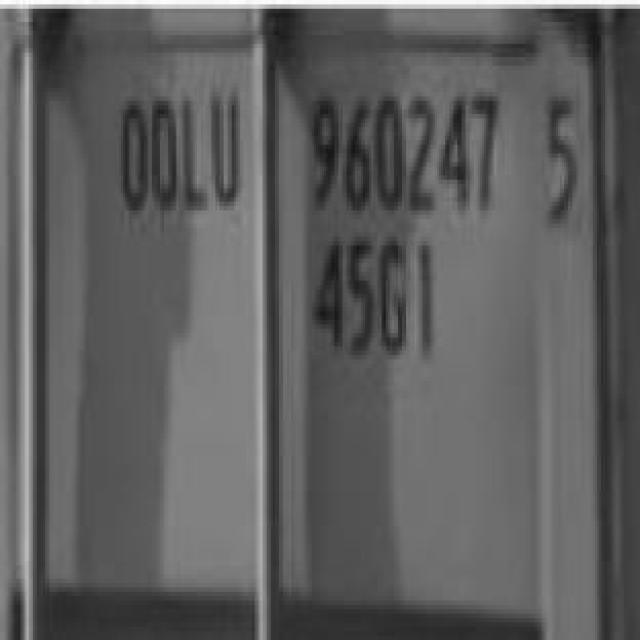dv: (539, 80, 581, 234)
owner: (116, 83, 245, 227)
serial: (304, 74, 503, 223)
size: (306, 223, 438, 384)
